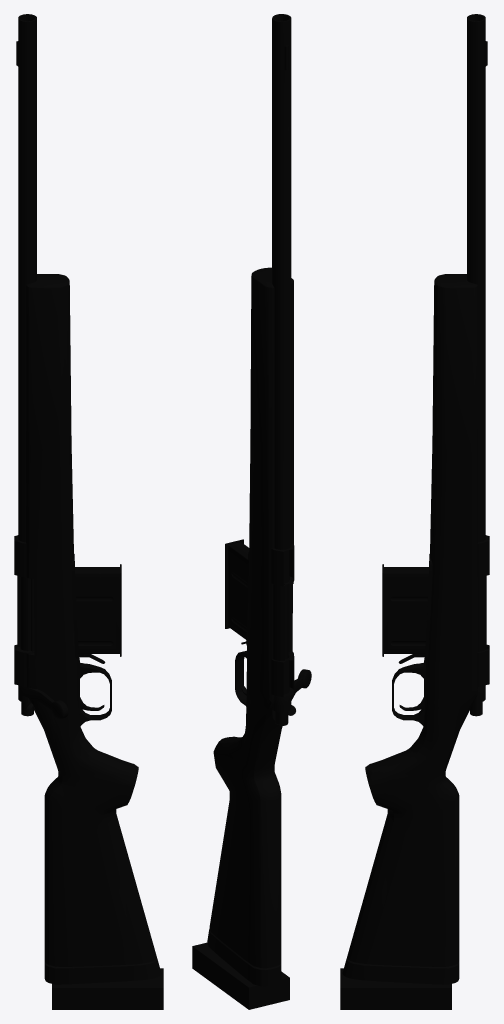
File: M24__RecoilPad_Rubber.fbx
3 renders of one model, left to right at view 1: azimuth 90°, elevation 25°; view 2: azimuth 210°, elevation 25°; view 3: azimuth 270°, elevation 25°, orthographic.
Visible parts, largest first — view 1: asset_M24.001; view 2: asset_M24.001; view 3: asset_M24.001.
Part boxes in pixels (bbox=[...]): asset_M24.001: bbox=[14, 14, 163, 1009]; asset_M24.001: bbox=[192, 14, 311, 1009]; asset_M24.001: bbox=[340, 14, 489, 1009].
Size of the model in its own units: 0.048 by 0.669 by 0.0922.
